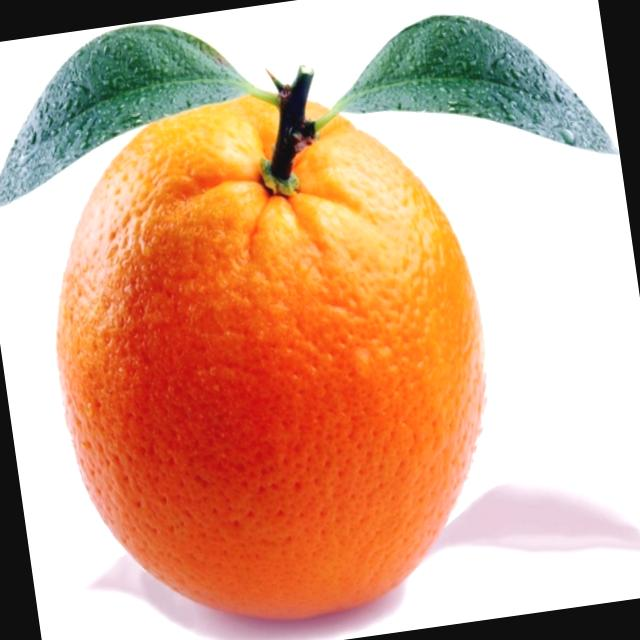orange: (32, 74, 521, 640)
